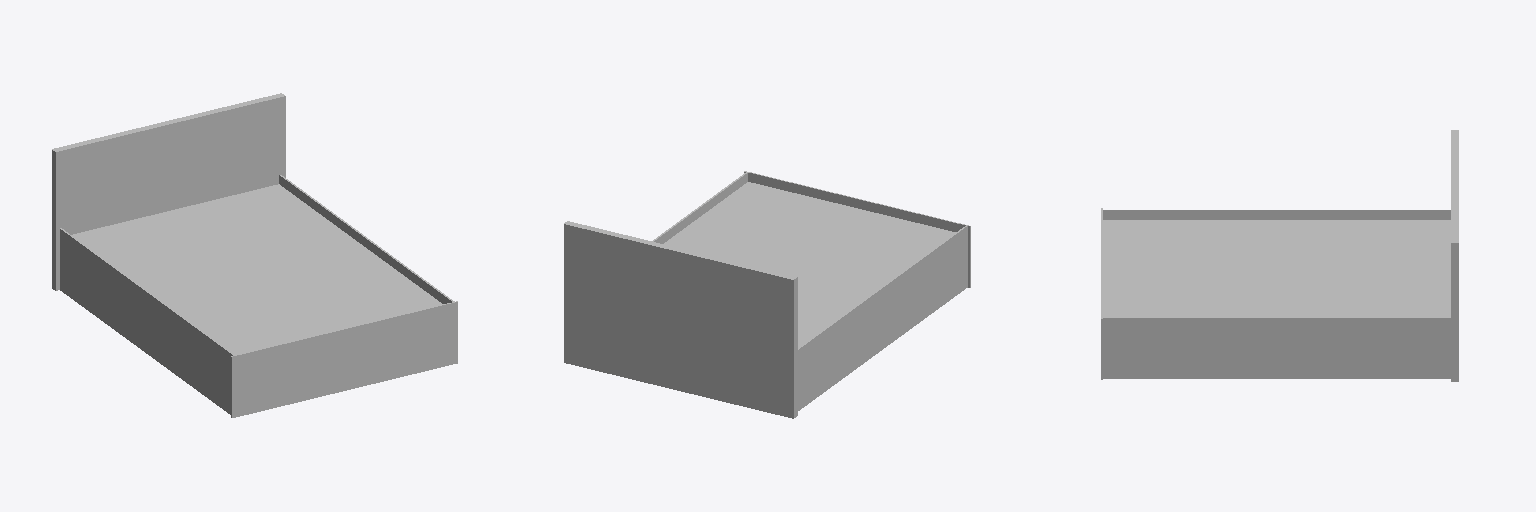
The model's file is bed.obj.
The picture shows the model from 3 angles: view 1: azimuth 30°, elevation 25°; view 2: azimuth 150°, elevation 25°; view 3: azimuth 270°, elevation 25°; orthographic projection.
Visible parts, largest first — view 1: Cube.012; view 2: Cube.012; view 3: Cube.012.
Part boxes in pixels (bbox=[...]): Cube.012: bbox=[52, 93, 457, 417]; Cube.012: bbox=[564, 171, 970, 418]; Cube.012: bbox=[1101, 130, 1458, 381].
Bounding box in the file's own units: 1.56 × 0.9004 × 2.1.